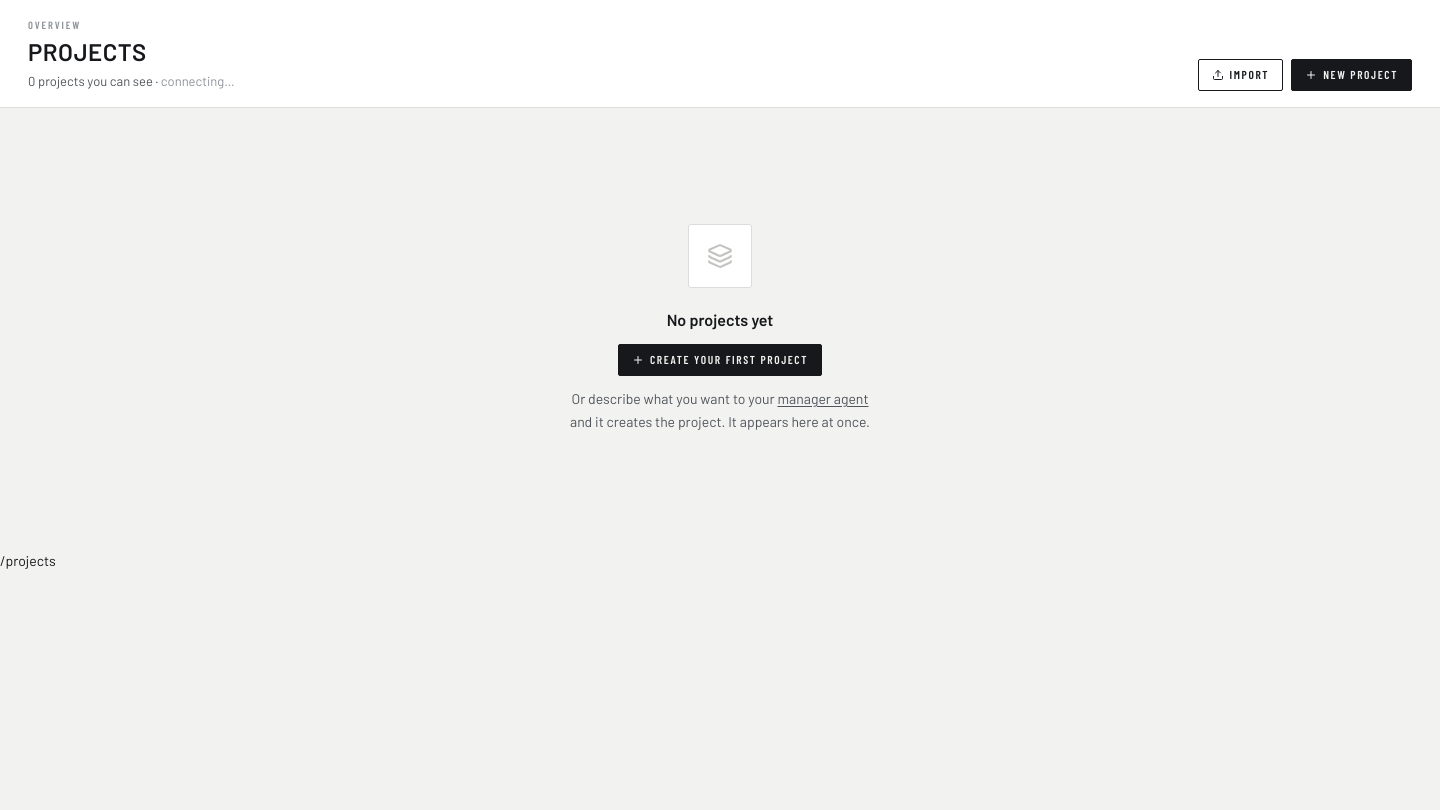
Projects › with no projects, leads with Create your first project and links the manager agent
Click the button "Create your first project" at (720, 360), box [618, 344, 822, 376]
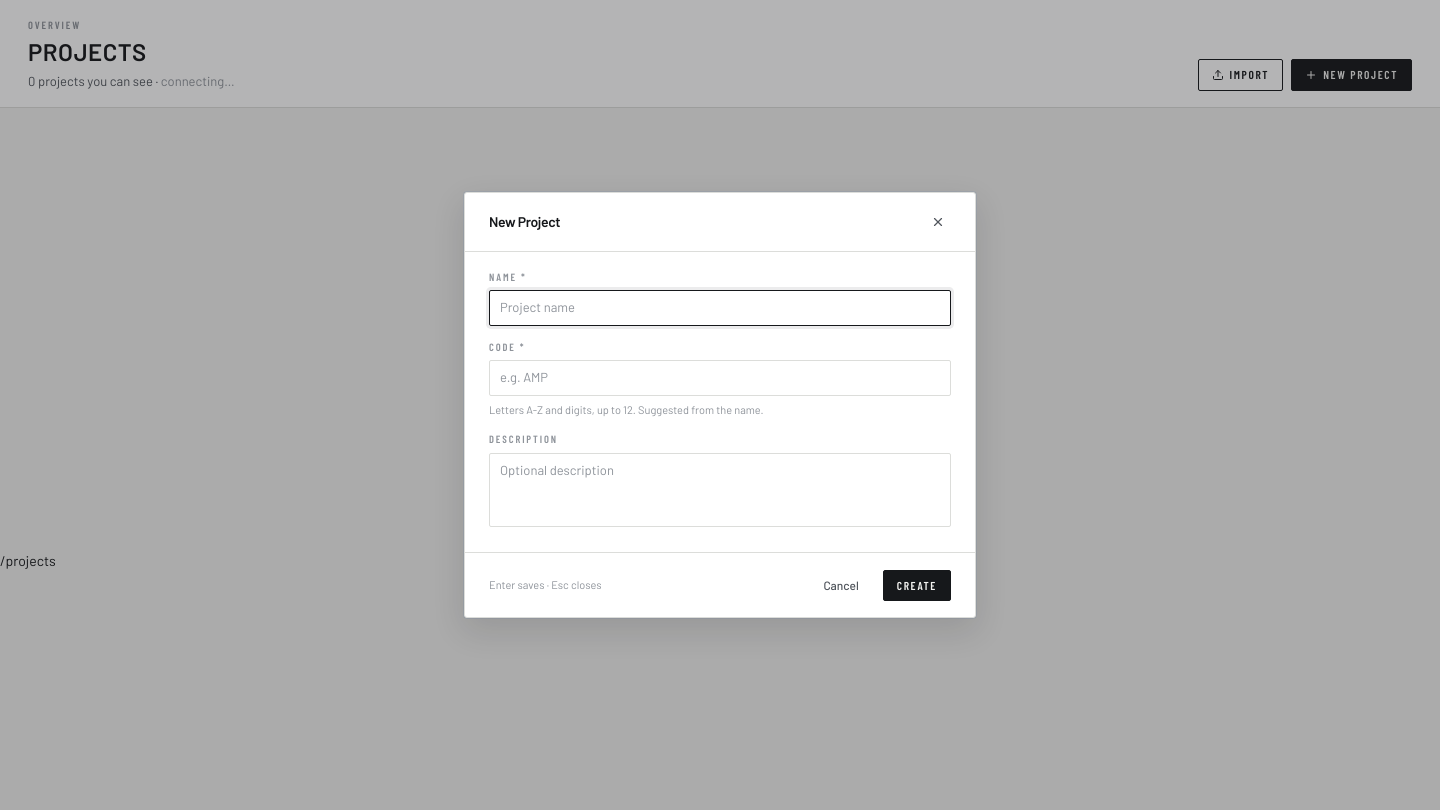
expect the heading "New Project" is shown: met, box [489, 212, 560, 232]
